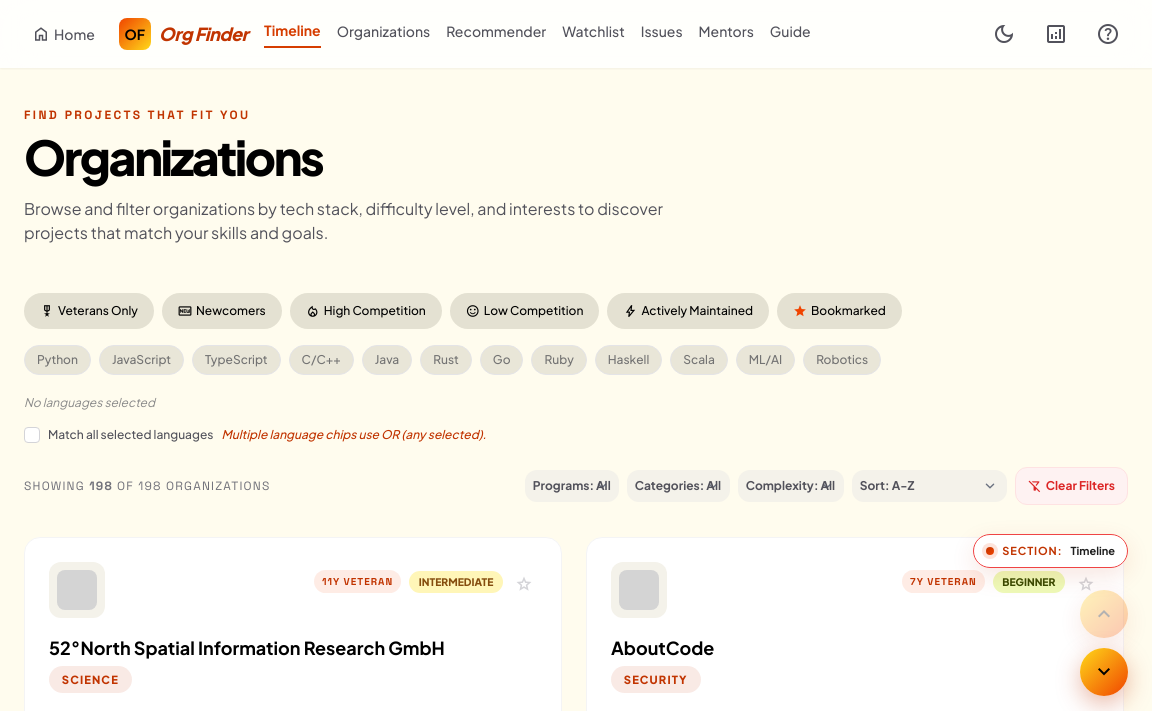
Test: <Home /> › language pills toggle, show a strip and filter
The image size is (1152, 711).
Later steps or results of the test are not shown.
(page scrolled)
Step 1. Click the button "Rust" → x=446, y=360, box [420,345,472,375]
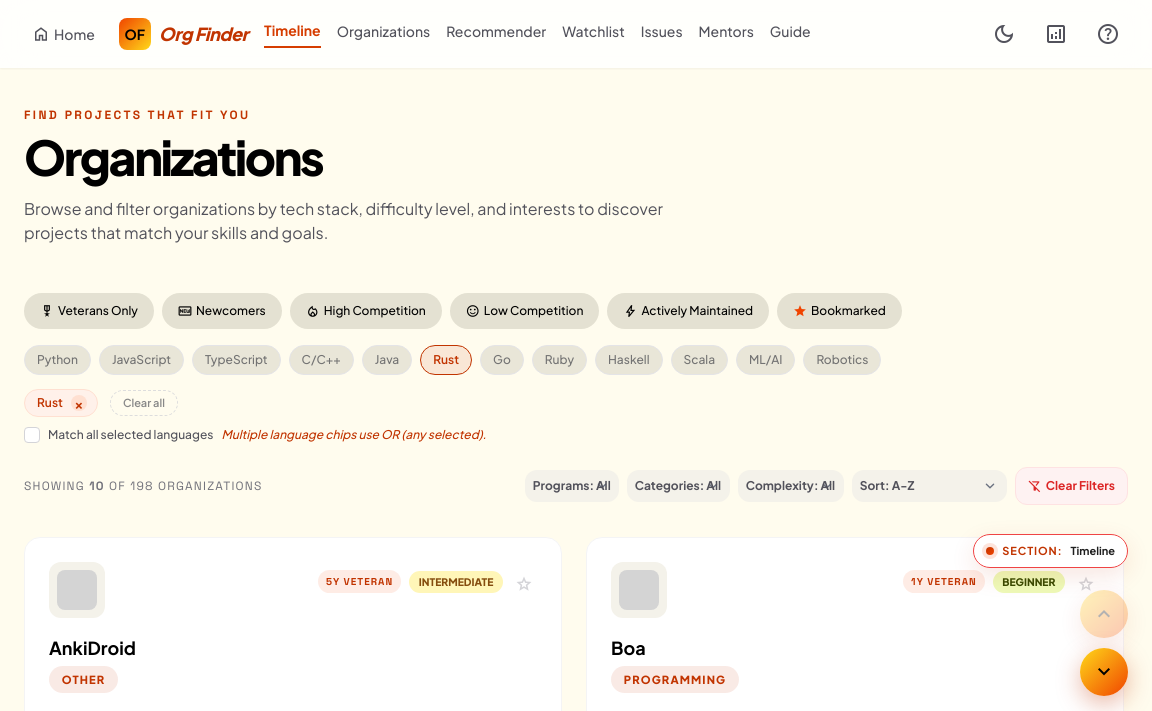
Now the element with class "selected-lang-badge" shows "Rust", box [37,395,63,410]
